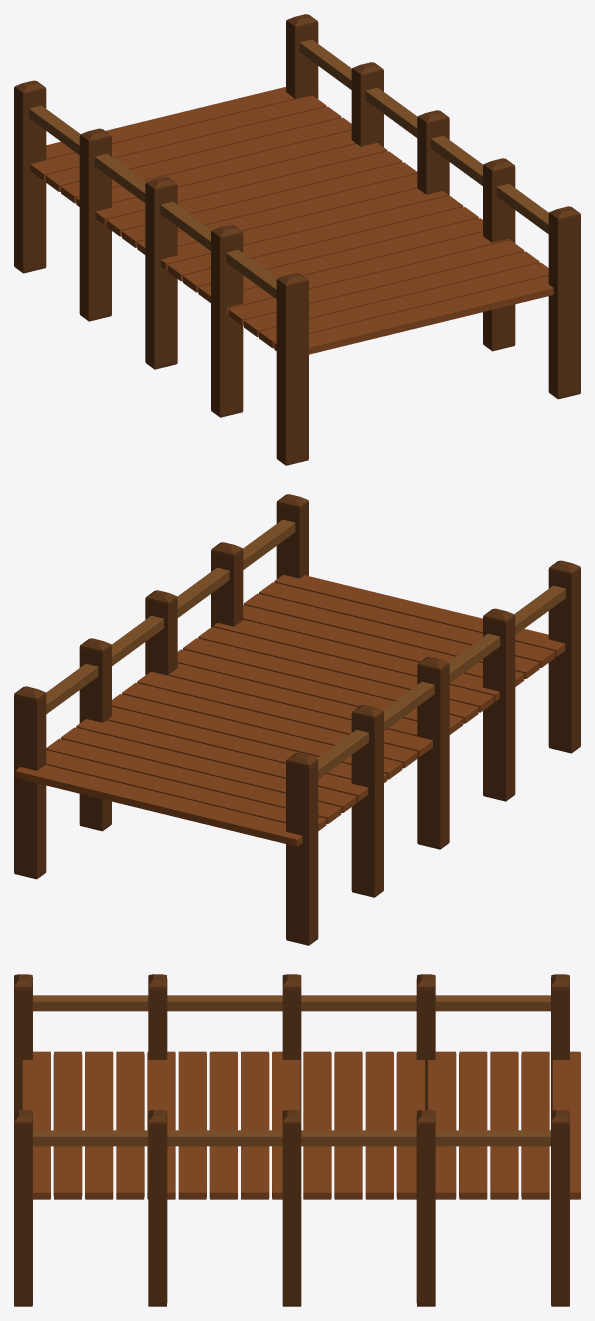
The model's file is bridge.fbx.
3 renders of one model, top to bottom at view 1: azimuth 30°, elevation 25°; view 2: azimuth 150°, elevation 25°; view 3: azimuth 270°, elevation 25°, orthographic. The views are drawn at different scales.
Visible parts, largest first — view 1: Cube.005; view 2: Cube.005; view 3: Cube.005.
Boxes of the visible parts, x1,y1,x2,y2 form: Cube.005: (14, 14, 580, 465); Cube.005: (14, 494, 580, 945); Cube.005: (14, 974, 580, 1306).
Size of the model in its own units: 223 by 133 by 363.
